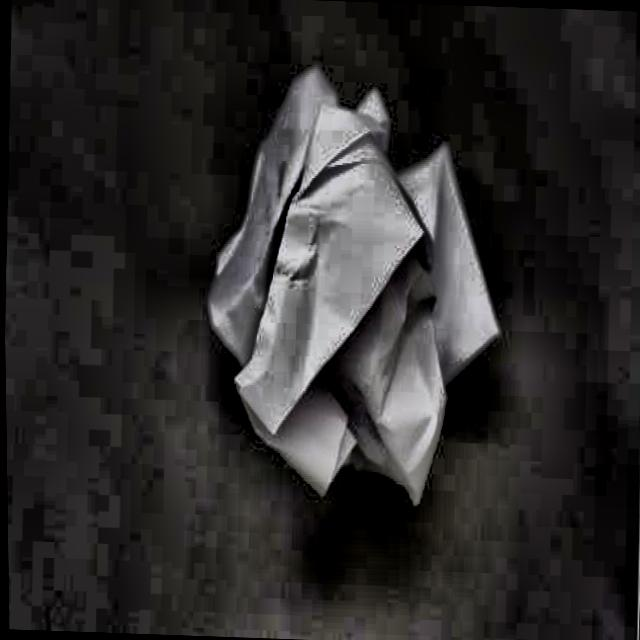Paper: (189, 50, 523, 538)
